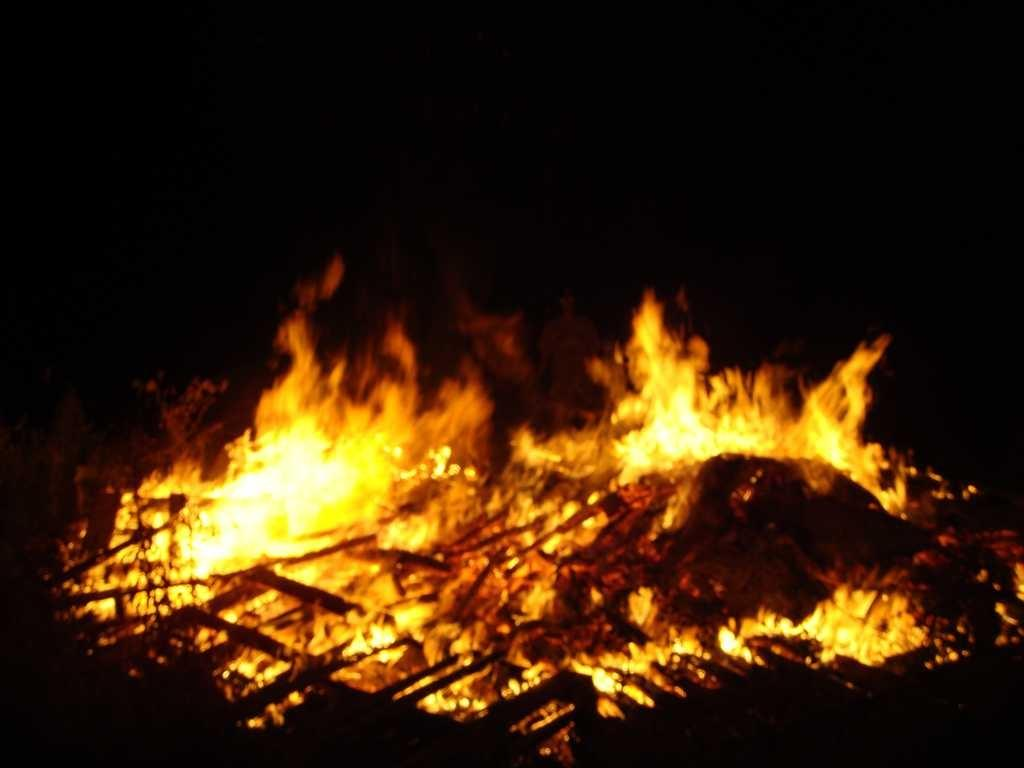fire: (206, 454, 374, 564), (640, 386, 858, 458)
